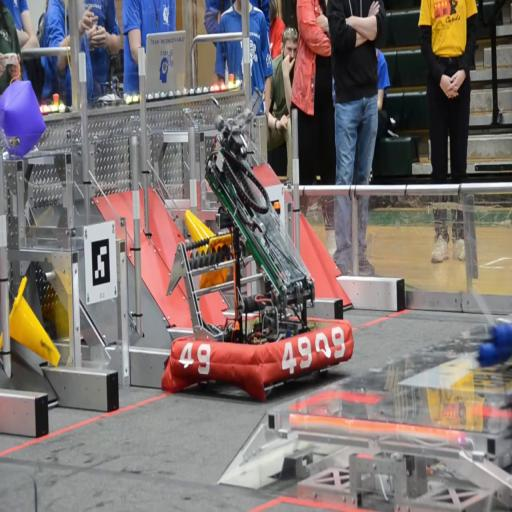robot: (164, 134, 349, 380)
